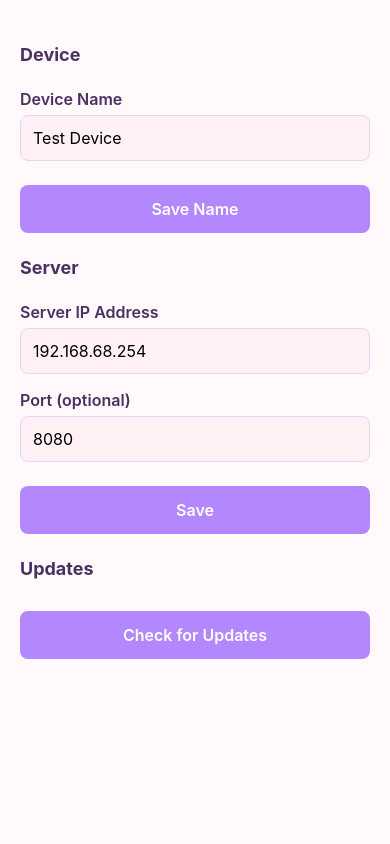
it: shows validation error for invalid IP
This screenshot has width=390, height=844.
Type "999.999.999.999" into the field showing "192.168.68.254" at {"x": 195, "y": 351}, box [20, 328, 370, 374]
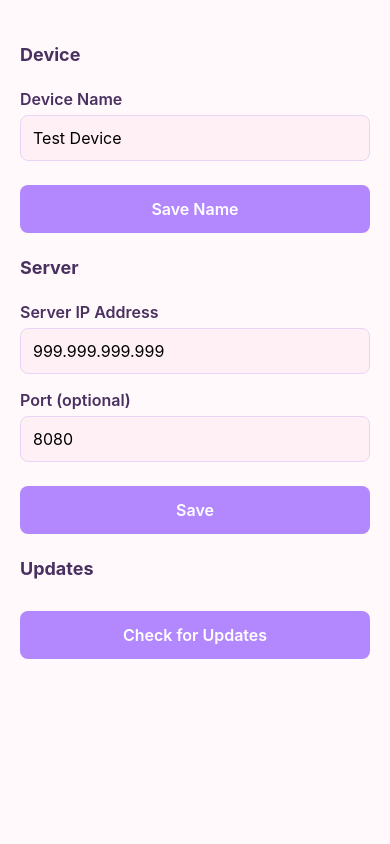
Click the button "Save" at {"x": 195, "y": 510}, box [20, 486, 370, 534]
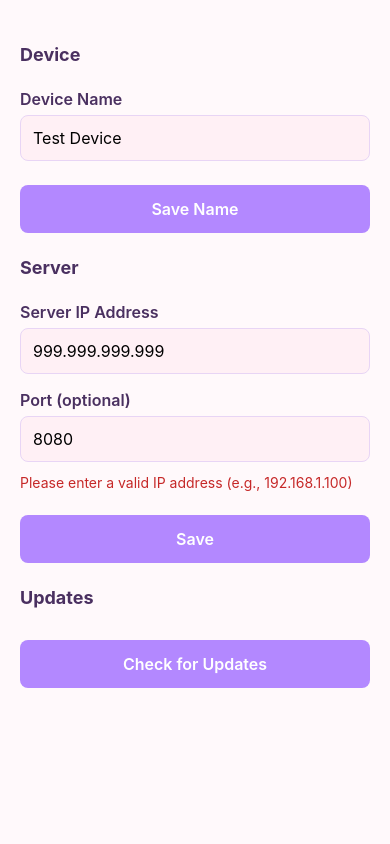
Expected: the text "Please enter a valid IP address (e.g., 192.168.1.100)" is shown, [20, 474, 370, 491]
